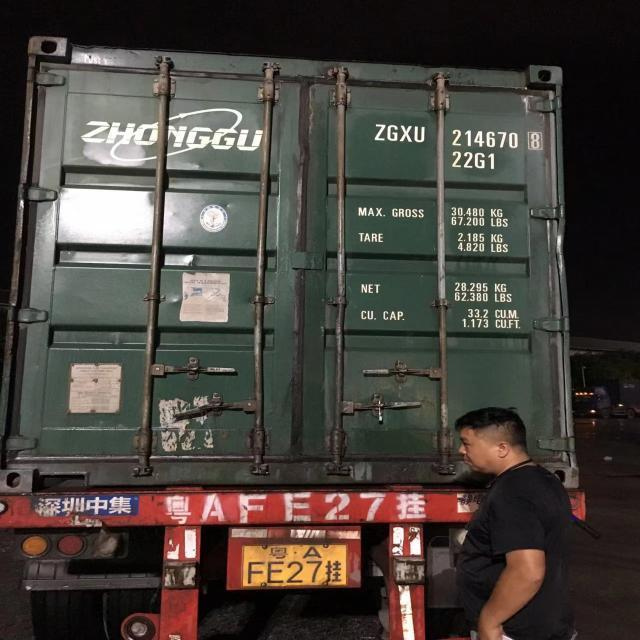ISO: (451, 150, 499, 172)
container_number: (369, 127, 543, 148)
